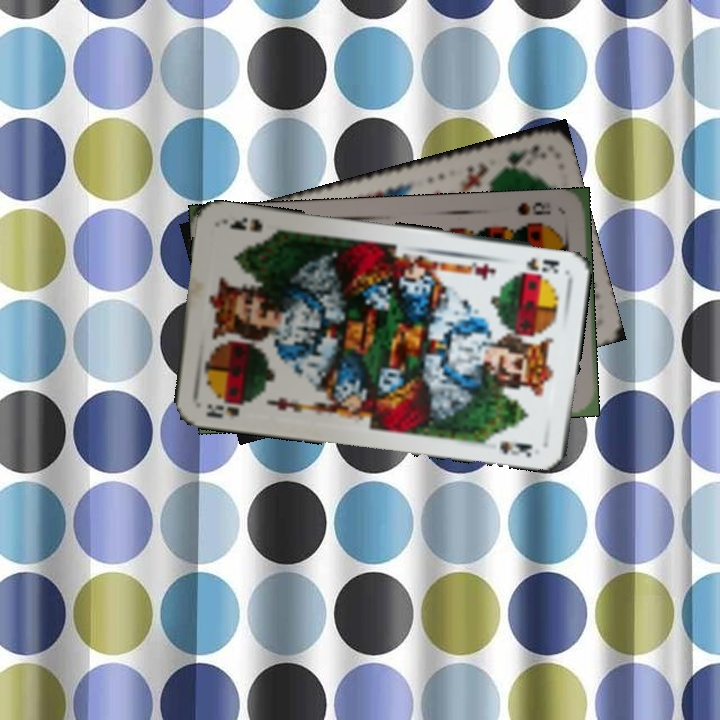GK: (494, 140, 549, 172)
S8: (513, 198, 554, 218)
SK: (202, 395, 256, 421), (522, 253, 562, 276)
